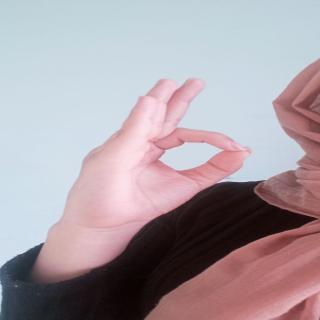Space: (76, 74, 252, 218)
